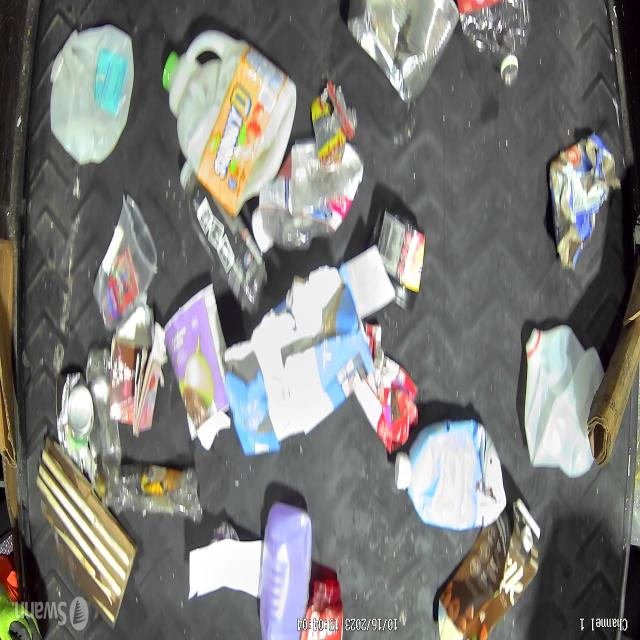can: (348, 0, 459, 106), (374, 208, 426, 314), (68, 382, 94, 447)
milk_jug: (161, 29, 297, 218), (524, 324, 604, 476), (49, 25, 134, 166)
non_white_jug: (220, 266, 374, 457), (438, 498, 541, 640), (392, 420, 506, 530), (354, 323, 419, 453), (259, 500, 313, 640)
plastic_bottle: (251, 140, 363, 255), (97, 462, 201, 524), (460, 0, 532, 88), (85, 347, 125, 492)
